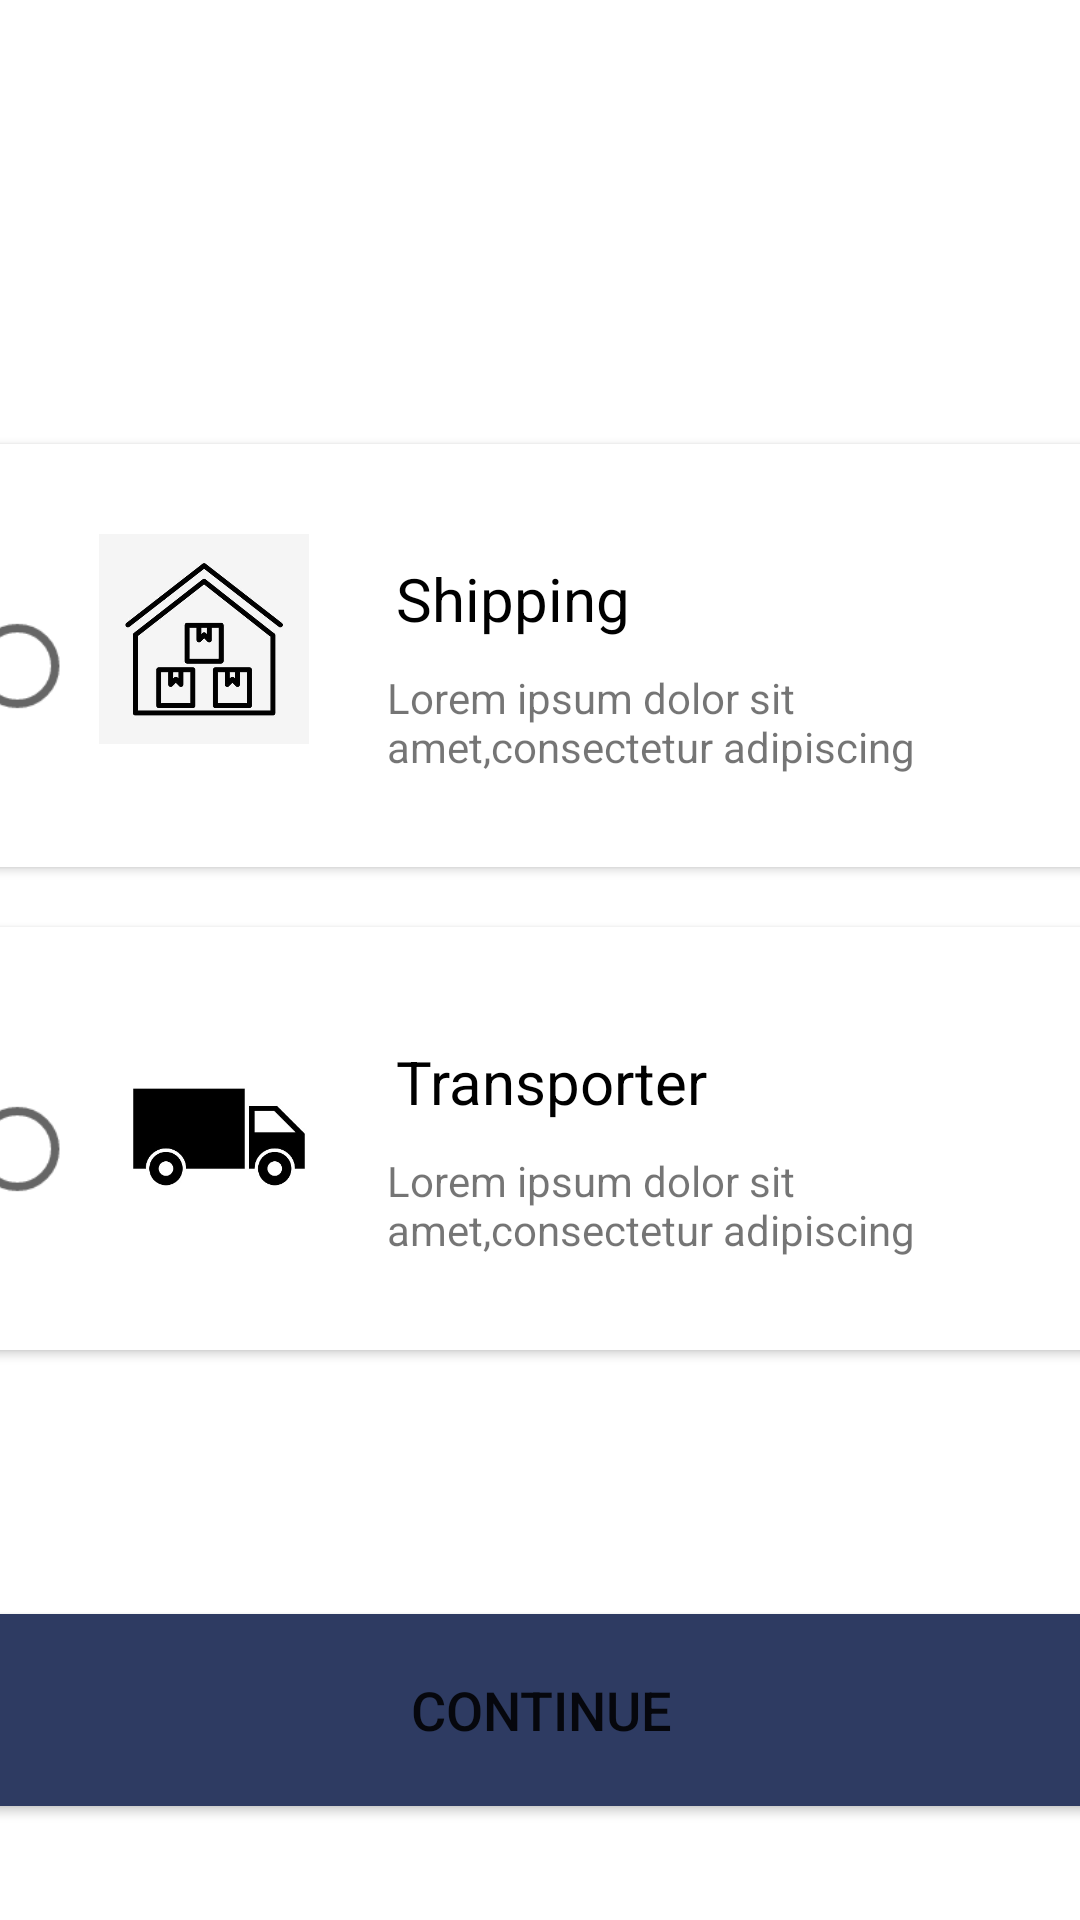

Named icons in this screenshot (1080 x 1920) and their bounding boxes, (x1, y1, x2, y2):
shipping: (133, 1088, 305, 1186)
warehouse: (99, 534, 309, 744)
